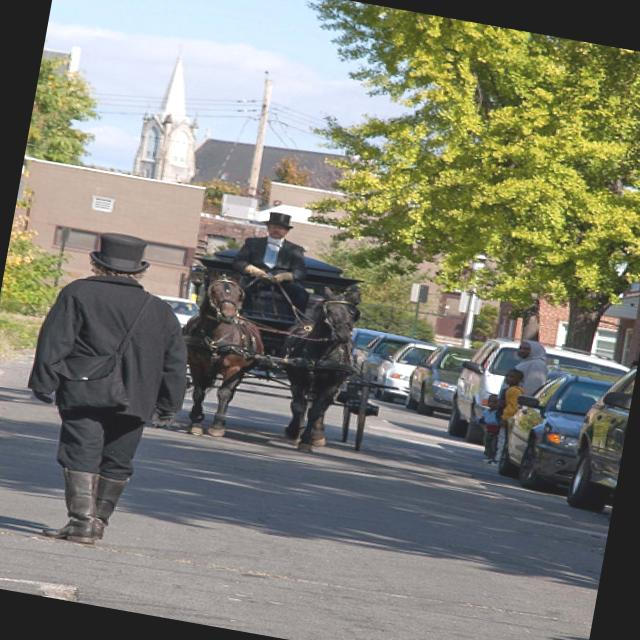Vehicle: (444, 328, 633, 466), (494, 363, 620, 500), (563, 356, 637, 516), (402, 338, 478, 423), (346, 329, 438, 392), (372, 336, 438, 409), (144, 292, 199, 330), (350, 326, 412, 354)
